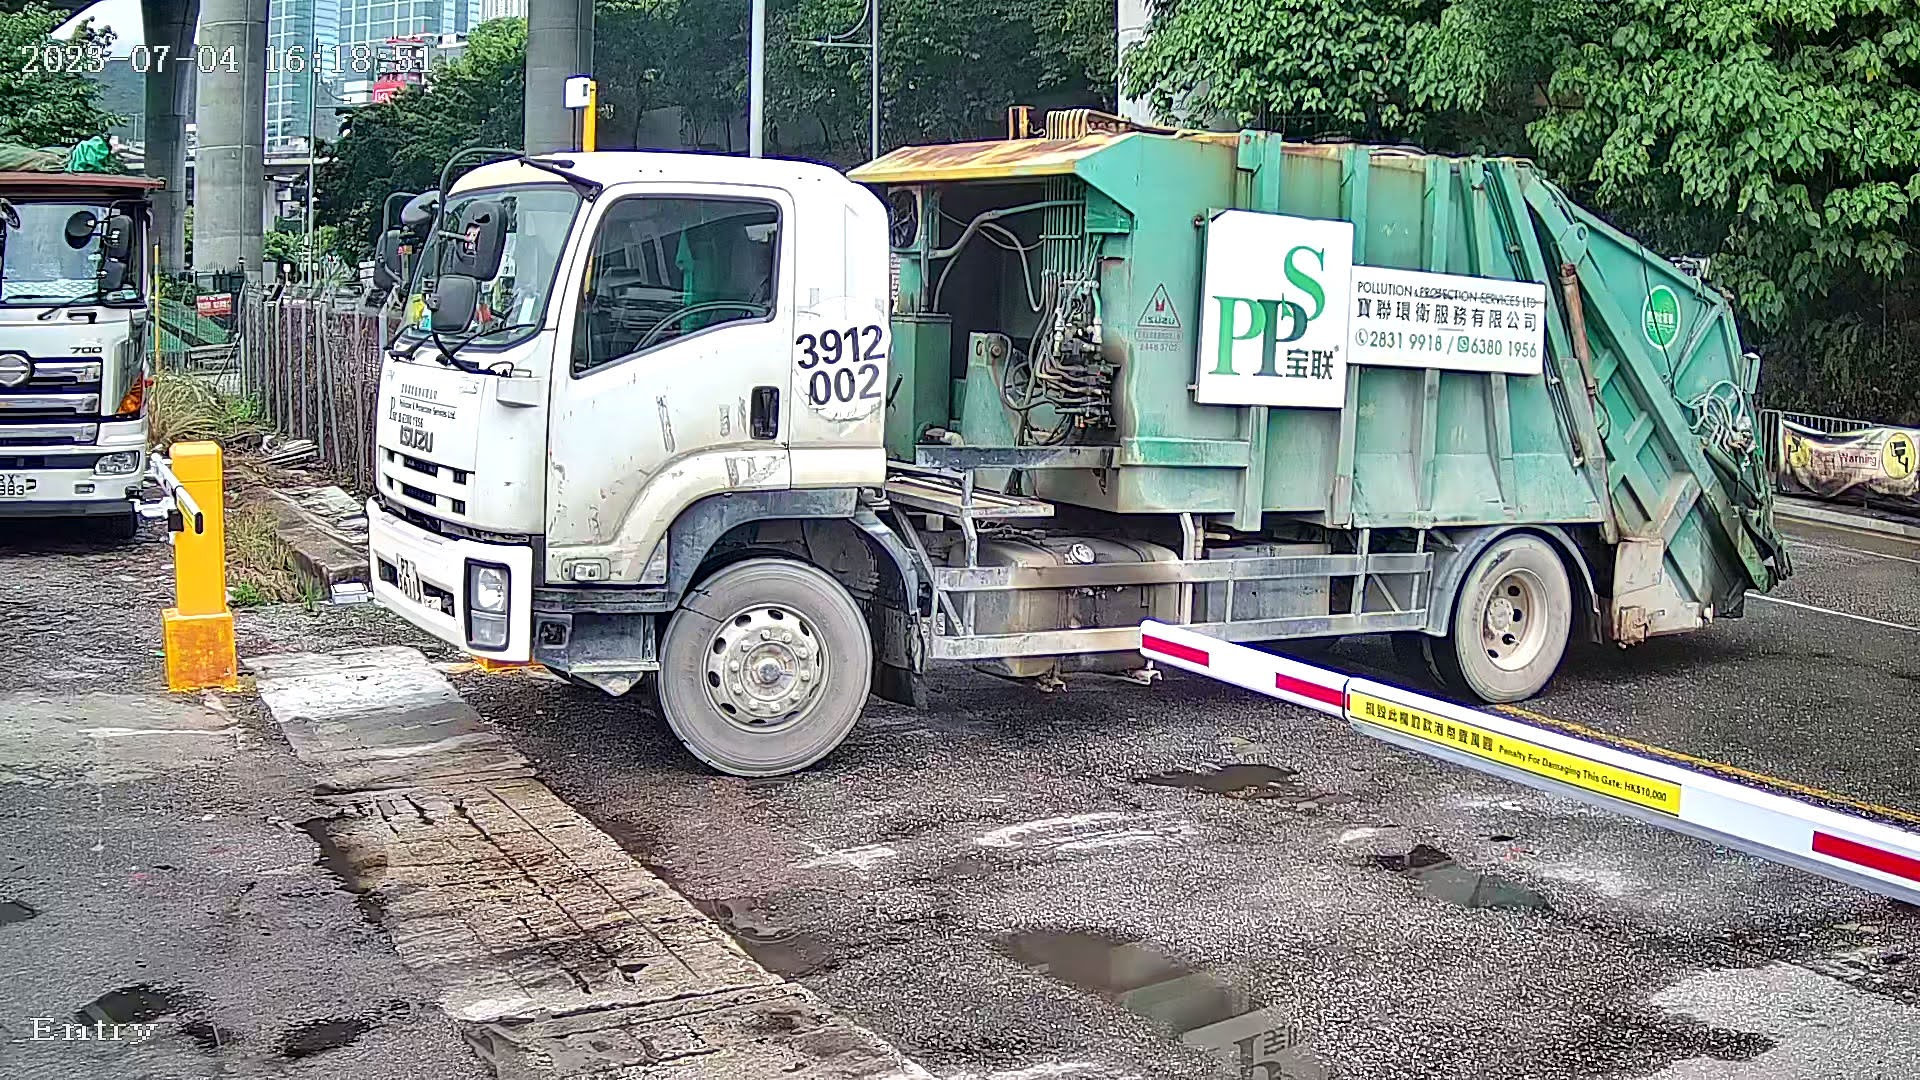truck: (349, 104, 1809, 791)
